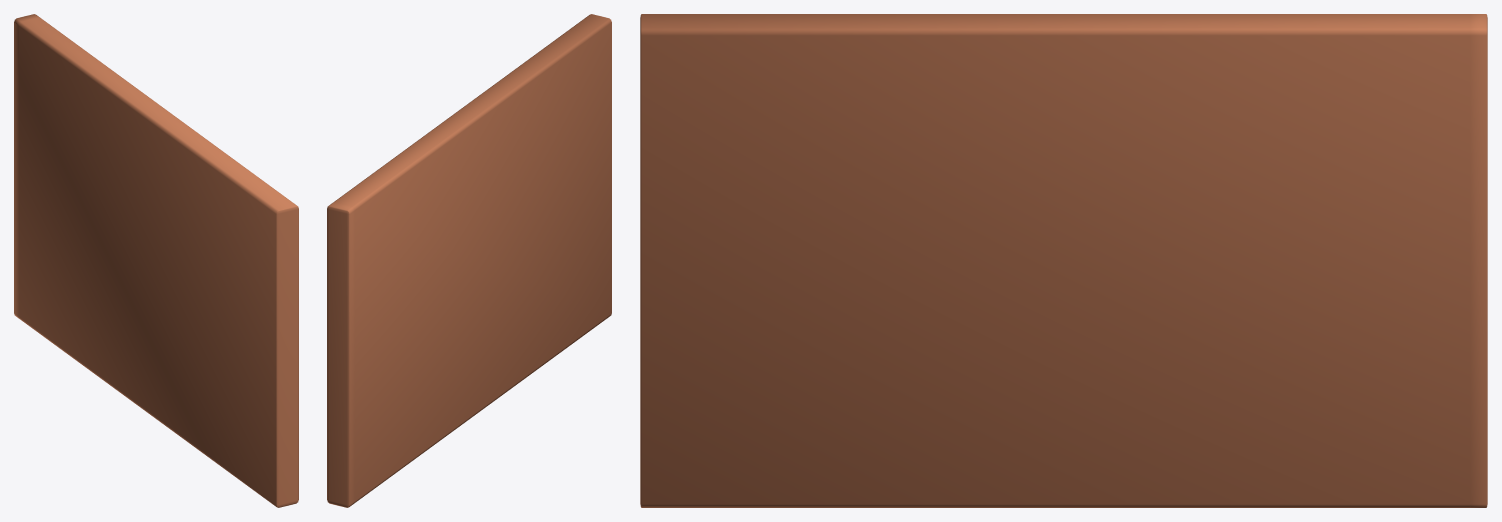
Rendered from wall.fbx.
3 views of the same model, side by side, from view 1: azimuth 30°, elevation 25°; view 2: azimuth 150°, elevation 25°; view 3: azimuth 270°, elevation 25° (orthographic). The views are drawn at different scales.
Parts seen in each view (by area): view 1: stone_8.050; view 2: stone_8.050; view 3: stone_8.050.
Boxes of the visible parts, <box> form: stone_8.050: <box>14,14,298,507</box>; stone_8.050: <box>327,14,611,507</box>; stone_8.050: <box>640,14,1487,507</box>.
Bounding box in the file's own units: 20 × 400 × 250.
